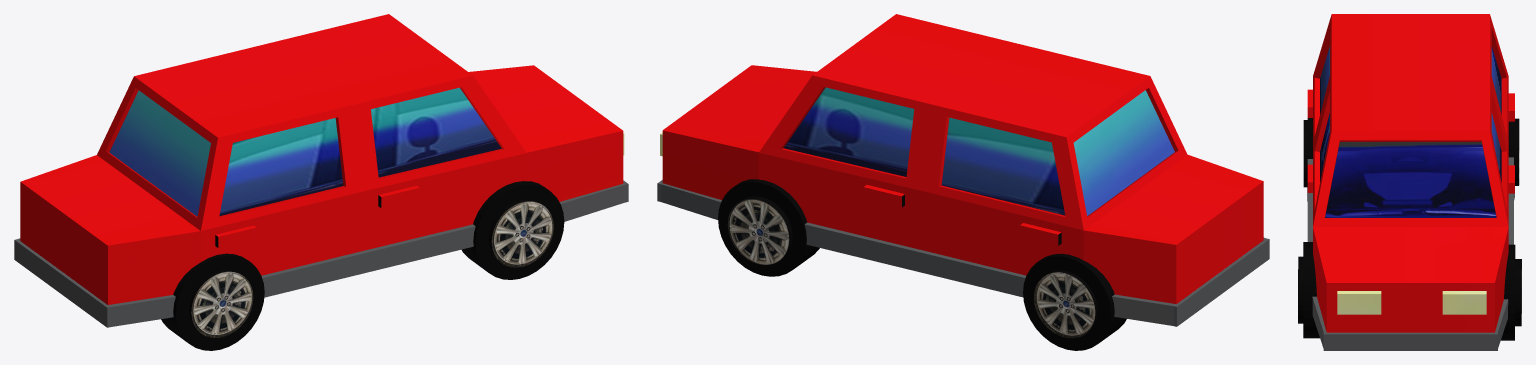
Rendered from CarRED.glb.
The picture shows the model from 3 angles, left to right: view 1: azimuth 30°, elevation 25°; view 2: azimuth 150°, elevation 25°; view 3: azimuth 270°, elevation 25°; orthographic projection. The views are drawn at different scales.
Parts seen in each view (by area): view 1: Cube.001; view 2: Cube.001; view 3: Cube.001.
Part boxes in pixels (left/top/right/bottom): Cube.001: left=14, top=14, right=628, bottom=350; Cube.001: left=657, top=14, right=1269, bottom=350; Cube.001: left=1298, top=14, right=1521, bottom=350.
Bounding box in the file's own units: 5.53 × 2.02 × 2.17.
1 material, 1 textured.
